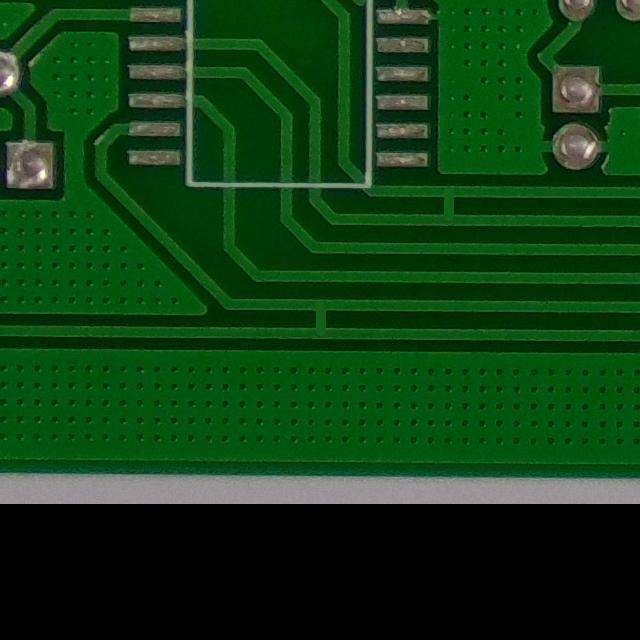short: (289, 291, 351, 350)
